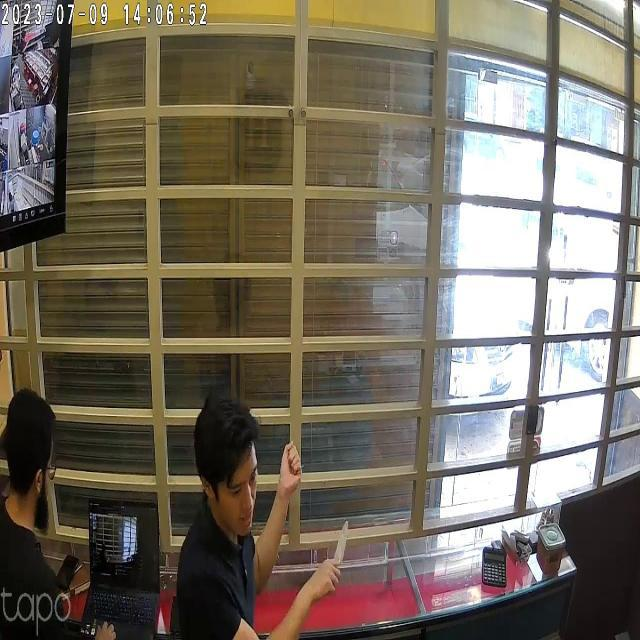Knife: (321, 514, 362, 577)
